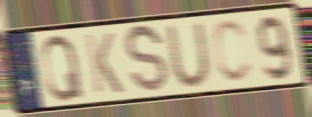9: (255, 12, 296, 82)
C: (210, 17, 256, 86)
K: (82, 31, 125, 96)
Q: (39, 33, 85, 104)
S: (124, 22, 170, 98)
U: (163, 20, 215, 90)
